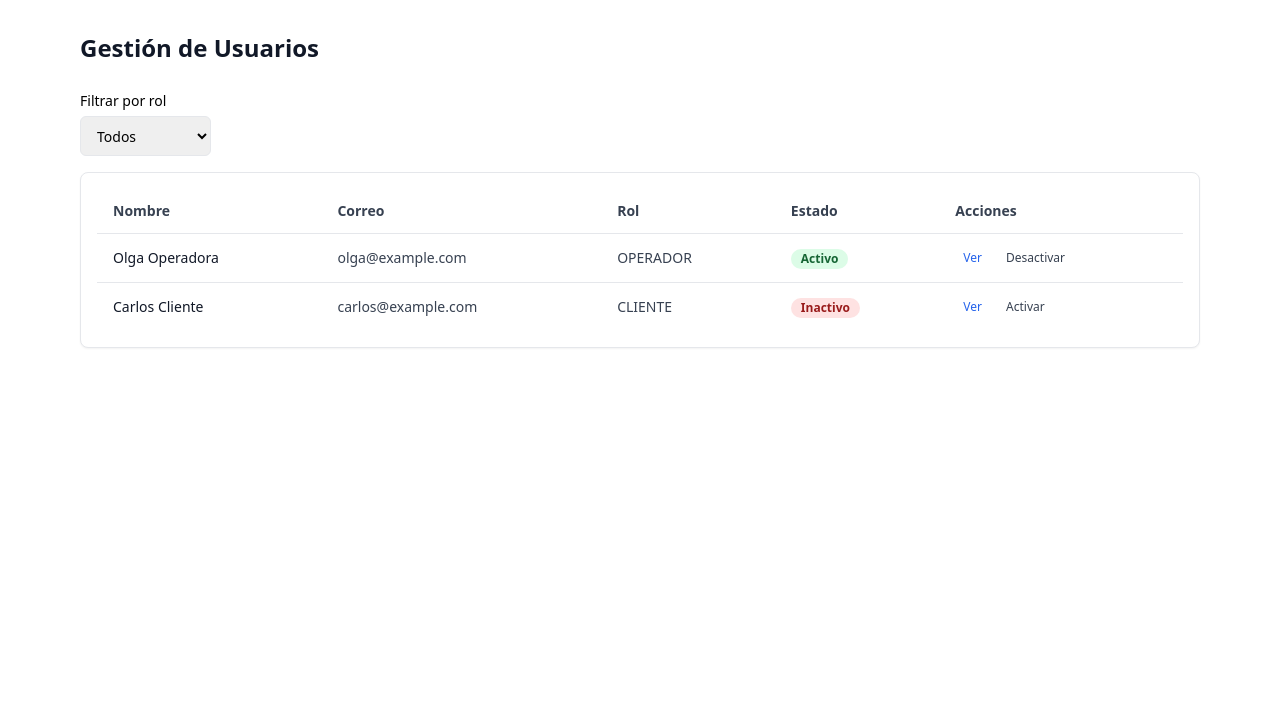
Test: R25 — al hacer clic en "Ver" se muestra el panel de detalle con los datos del usuario › abre el panel de detalle con la información del usuario seleccionado
Click the button with aria-label "ver detalle de Olga Operadora".
click(973, 258)  # box [955, 246, 990, 270]
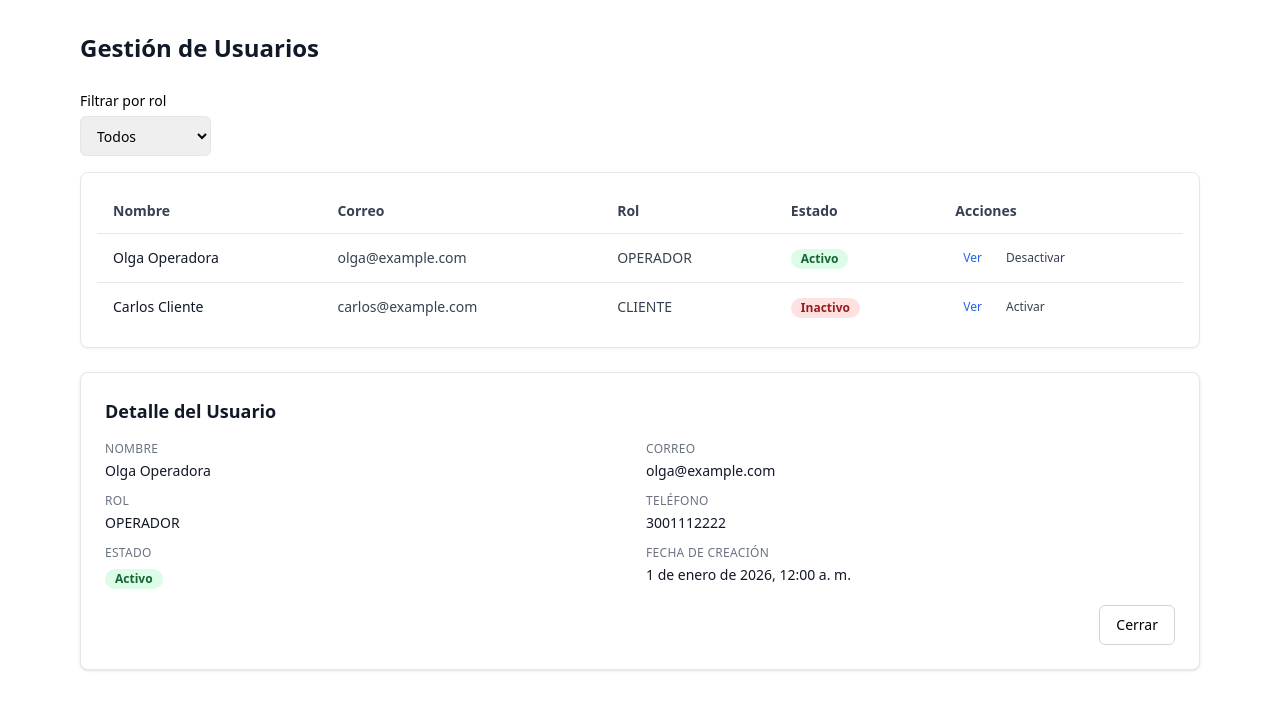
Now the dialog named "detalle de Olga Operadora" is shown, box [80, 372, 1200, 670]
Now the text "3001112222" is shown, box [646, 513, 726, 532]
